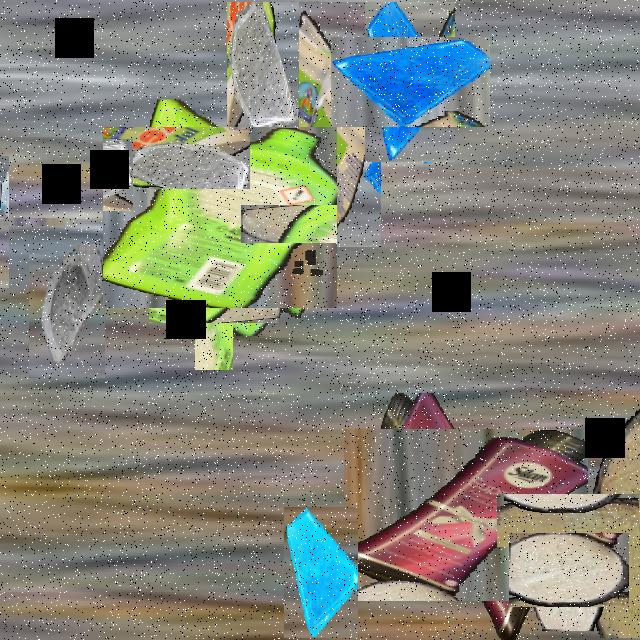glass: (348, 19, 472, 144), (29, 244, 105, 378), (284, 507, 358, 638), (227, 2, 299, 130), (0, 186, 39, 257)
plastic: (362, 411, 570, 620), (116, 113, 324, 321), (249, 2, 381, 247)
wood: (541, 449, 640, 592), (520, 522, 618, 619), (172, 262, 256, 346)
